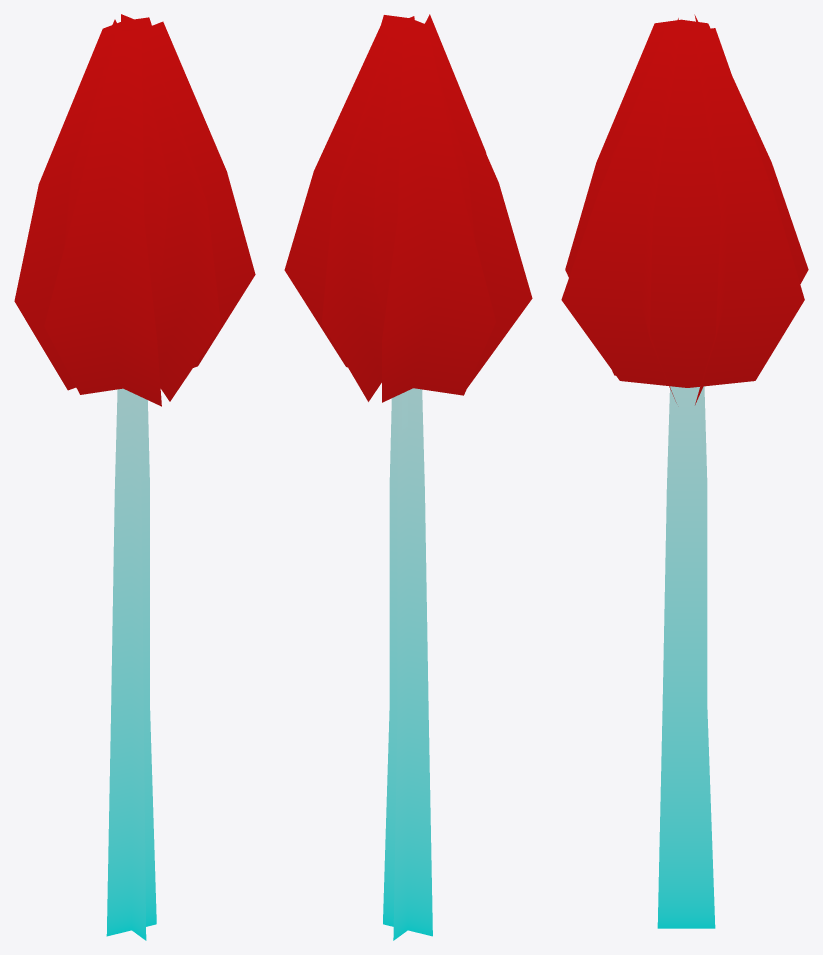
File: Flower_C1_0.7m_01.fbx
3 views of the same model, side by side, from view 1: azimuth 30°, elevation 25°; view 2: azimuth 150°, elevation 25°; view 3: azimuth 270°, elevation 25° (orthographic).
Parts seen in each view (by area): view 1: Flower_C1_0.7m_01_LOD0; view 2: Flower_C1_0.7m_01_LOD0; view 3: Flower_C1_0.7m_01_LOD0.
Part boxes in pixels (box(x1,y1,x2,y2)): Flower_C1_0.7m_01_LOD0: box(14, 14, 255, 940); Flower_C1_0.7m_01_LOD0: box(284, 14, 532, 940); Flower_C1_0.7m_01_LOD0: box(561, 14, 808, 928).
Size of what is drawn, in the model's own units: 0.1717 by 0.6914 by 0.1717.
